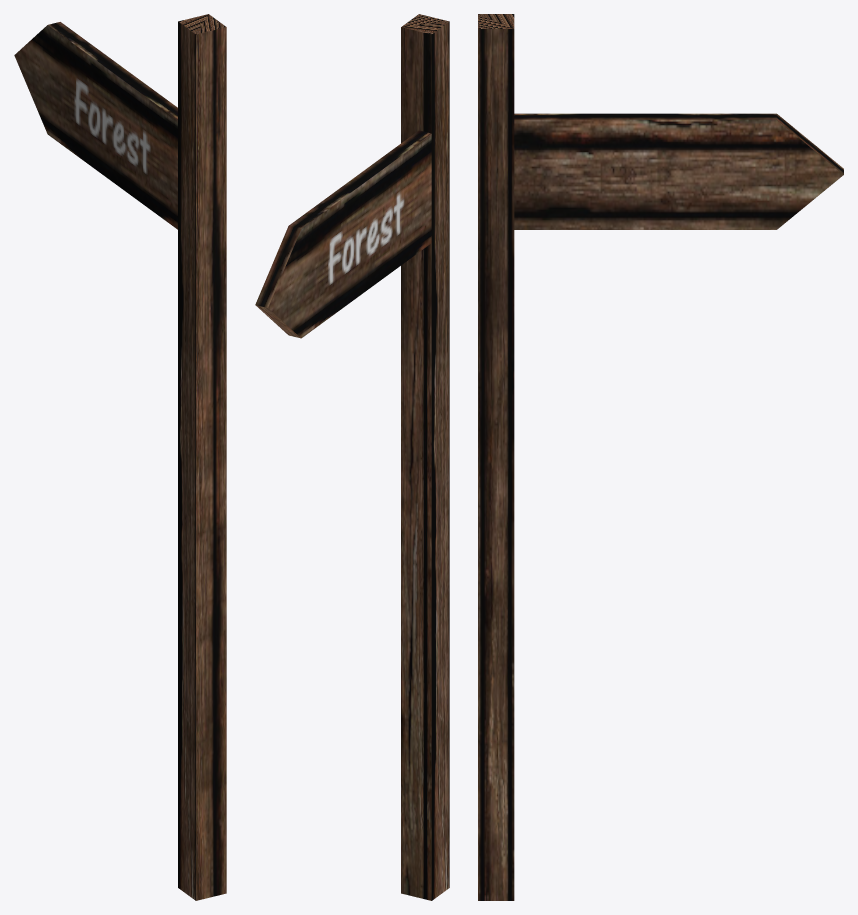
File: direction4.fbx
3 renders of one model, left to right at view 1: azimuth 30°, elevation 25°; view 2: azimuth 150°, elevation 25°; view 3: azimuth 270°, elevation 25°, orthographic.
Visible parts, largest first — view 1: Plane.071; view 2: Plane.071; view 3: Plane.071.
Part boxes in pixels (x1,y1,x2,y2): Plane.071: (14, 14, 226, 900); Plane.071: (255, 14, 449, 900); Plane.071: (478, 14, 843, 900).
Bounding box in the file's own units: 12.9 × 348 × 132.
1 material, 1 textured.
